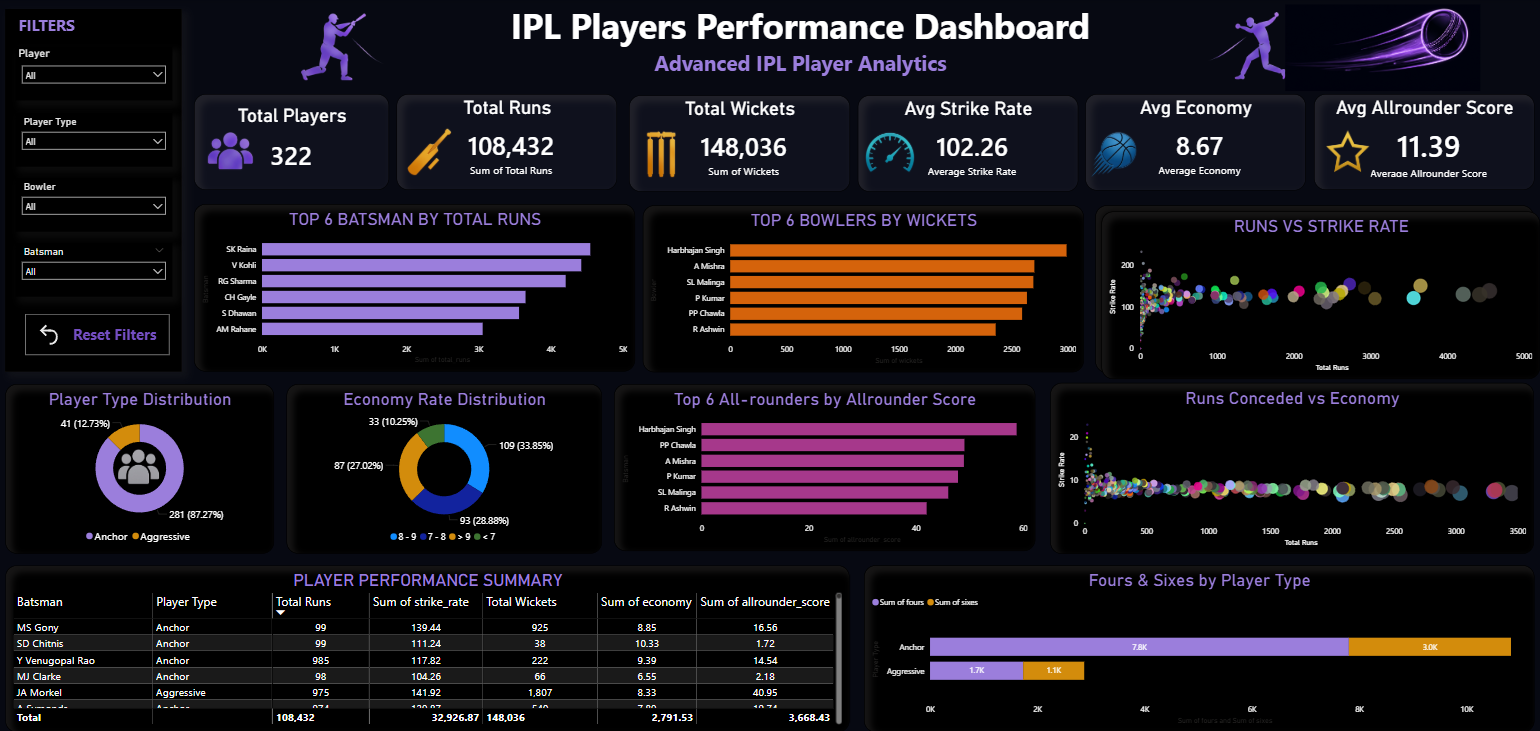

Layout of this report page (visuals, bound fields, positions):
{"tool":"powerbi","page":{"name":"Page 1","canvas":[2400,1150],"ordinal":0},"visuals":[{"type":"textbox","box":[308.3,0,1869.1,127.2],"z":0},{"type":"shape","box":[17.3,15.4,271.7,558.8],"z":1000},{"type":"barChart","title":"TOP 6 BATSMAN BY TOTAL RUNS","fields":{"Category":["final_allrounder_data.batsman"],"Y":["Sum(final_allrounder_data.total_runs)"]},"box":[308.3,316,680.2,258.2],"z":2000},{"type":"cardVisual","title":"Total Runs","fields":{"Data":["final_allrounder_data.Total Runs"]},"box":[621.4,146.1,340.1,148.3],"z":3000},{"type":"cardVisual","title":"Total Wickets","fields":{"Data":["final_allrounder_data.Total Wickets"]},"box":[978.2,148.5,340.6,148.5],"z":4000},{"type":"cardVisual","title":"Avg Strike Rate","fields":{"Data":["Avg(final_allrounder_data.strike_rate)"]},"box":[1330.6,148.6,340,148.6],"z":5000},{"type":"cardVisual","title":"Total Players","fields":{"Data":["CountNonNull(final_allrounder_data.batsman)"]},"box":[307.4,146.1,300.9,148.3],"z":6000},{"type":"image","box":[387.3,0,300.6,146.4],"z":7000},{"type":"image","box":[1788.2,0,300.6,146.4],"z":8000},{"type":"image","box":[1990.5,1.9,300.6,146.4],"z":9000},{"type":"image","box":[296.8,190.8,134.9,98.3],"z":10000},{"type":"image","box":[621.4,176.6,100.3,115.6],"z":11000},{"type":"image","box":[978.2,180.2,99,116.8],"z":12000},{"type":"image","box":[1330.6,182.4,99.1,117.1],"z":13000},{"type":"cardVisual","title":"Avg Economy","fields":{"Data":["Avg(final_allrounder_data.economy)"]},"box":[1681.8,146.3,340,148.6],"z":14000},{"type":"cardVisual","title":"Avg Allrounder Score","fields":{"Data":["Avg(final_allrounder_data.allrounder_score)"]},"box":[2034.2,146.1,340.1,148.3],"z":15000},{"type":"image","box":[1681,176.6,98.1,117.7],"z":16000},{"type":"image","box":[2036.3,176.6,98.1,117.7],"z":17000},{"type":"barChart","title":"TOP 6 BOWLERS BY WICKETS","fields":{"Category":["final_allrounder_data.bowler"],"Y":["Sum(final_allrounder_data.wickets)"]},"box":[1000.7,318.3,680.2,257.3],"z":18000},{"type":"scatterChart","title":"RUNS VS STRIKE RATE","fields":{"X":["Sum(final_allrounder_data.total_runs)"],"Y":["Sum(final_allrounder_data.strike_rate)"],"Series":["final_allrounder_data.batsman"],"Size":["Sum(final_allrounder_data.total_runs)"]},"box":[1697.6,317.9,676.4,258.2],"z":19000},{"type":"donutChart","title":"Player Type Distribution","fields":{"Category":["final_allrounder_data.player_type"],"Y":["CountNonNull(final_allrounder_data.batsman)"]},"box":[17.4,593,414.2,261.6],"z":20000},{"type":"donutChart","title":"Economy Rate Distribution","fields":{"Category":["final_allrounder_data.Economy Group"],"Y":["CountNonNull(final_allrounder_data.bowler)"]},"box":[451.3,593,486.2,261.6],"z":21000},{"type":"barChart","title":"Top 6 All-rounders by Allrounder Score","fields":{"Category":["final_allrounder_data.Batsman"],"Y":["Sum(final_allrounder_data.allrounder_score)"]},"box":[954.9,593,649.7,257.3],"z":22000},{"type":"scatterChart","title":"Runs Conceded vs Economy","fields":{"Y":["Sum(final_allrounder_data.economy)"],"Series":["final_allrounder_data.bowler"],"Size":["Sum(final_allrounder_data.wickets)"],"X":["Sum(final_allrounder_data.runs_conceded)"]},"box":[1628.6,590.8,745.6,263.8],"z":23000},{"type":"scatterChart","title":"RUNS VS STRIKE RATE","fields":{"X":["Sum(final_allrounder_data.total_runs)"],"Y":["Sum(final_allrounder_data.strike_rate)"],"Series":["final_allrounder_data.batsman"],"Size":["Sum(final_allrounder_data.total_runs)"]},"box":[1707.6,327.9,676.4,258.2],"z":24000},{"type":"barChart","title":"Fours & Sixes by Player Type","fields":{"Category":["final_allrounder_data.player_type"],"Y":["Sum(final_allrounder_data.fours)","Sum(final_allrounder_data.sixes)"]},"box":[1340.8,872.1,1033.4,257.3],"z":25000},{"type":"tableEx","title":"PLAYER PERFORMANCE SUMMARY","fields":{"Values":["final_allrounder_data.batsman","final_allrounder_data.player_type","final_allrounder_data.Total Runs","Sum(final_allrounder_data.strike_rate)","final_allrounder_data.Total Wickets","Sum(final_allrounder_data.economy)","Sum(final_allrounder_data.allrounder_score)"]},"box":[17.4,872.1,1301.6,257.3],"z":26000},{"type":"textbox","box":[32.7,19.6,298.7,54.5],"z":27000},{"type":"slicer","title":"Player","fields":{"Values":["final_allrounder_data.bowler"]},"box":[32.7,74.1,242,82.8],"z":28000},{"type":"slicer","fields":{"Values":["final_allrounder_data.player_type"]},"box":[32.7,174.4,242,82.8],"z":29000},{"type":"slicer","fields":{"Values":["final_allrounder_data.bowler"]},"box":[32.7,274.7,242,82.8],"z":30000},{"type":"slicer","fields":{"Values":["final_allrounder_data.batsman"]},"box":[32.7,375,242,82.8],"z":31000},{"type":"image","box":[181.1,693.7,88.6,67.4],"z":31001},{"type":"actionButton","box":[48,486.2,222.4,63.2],"z":31002}]}

Visuals, with their boxes in screenshot pixels (x1, y1, x2, y2), scaled from the page's 2400x1150 canvas onto the 1540x731 screenshot:
textbox: x1=198 y1=0 x2=1397 y2=81
shape: x1=11 y1=10 x2=185 y2=365
"TOP 6 BATSMAN BY TOTAL RUNS" barChart: x1=198 y1=201 x2=634 y2=365
"Total Runs" cardVisual: x1=399 y1=93 x2=617 y2=187
"Total Wickets" cardVisual: x1=628 y1=94 x2=846 y2=189
"Avg Strike Rate" cardVisual: x1=854 y1=94 x2=1072 y2=189
"Total Players" cardVisual: x1=197 y1=93 x2=390 y2=187
image: x1=249 y1=0 x2=441 y2=93
image: x1=1147 y1=0 x2=1340 y2=93
image: x1=1277 y1=1 x2=1470 y2=94
image: x1=190 y1=121 x2=277 y2=184
image: x1=399 y1=112 x2=463 y2=186
image: x1=628 y1=115 x2=691 y2=189
image: x1=854 y1=116 x2=917 y2=190
"Avg Economy" cardVisual: x1=1079 y1=93 x2=1297 y2=187
"Avg Allrounder Score" cardVisual: x1=1305 y1=93 x2=1524 y2=187
image: x1=1079 y1=112 x2=1142 y2=187
image: x1=1307 y1=112 x2=1370 y2=187
"TOP 6 BOWLERS BY WICKETS" barChart: x1=642 y1=202 x2=1079 y2=366
"RUNS VS STRIKE RATE" scatterChart: x1=1089 y1=202 x2=1523 y2=366
"Player Type Distribution" donutChart: x1=11 y1=377 x2=277 y2=543
"Economy Rate Distribution" donutChart: x1=290 y1=377 x2=602 y2=543
"Top 6 All-rounders by Allrounder Score" barChart: x1=613 y1=377 x2=1030 y2=540
"Runs Conceded vs Economy" scatterChart: x1=1045 y1=376 x2=1523 y2=543
"RUNS VS STRIKE RATE" scatterChart: x1=1096 y1=208 x2=1530 y2=373
"Fours & Sixes by Player Type" barChart: x1=860 y1=554 x2=1523 y2=718
"PLAYER PERFORMANCE SUMMARY" tableEx: x1=11 y1=554 x2=846 y2=718
textbox: x1=21 y1=12 x2=213 y2=47
"Player" slicer: x1=21 y1=47 x2=176 y2=100
slicer - final_allrounder_data.player_type: x1=21 y1=111 x2=176 y2=163
slicer - final_allrounder_data.bowler: x1=21 y1=175 x2=176 y2=227
slicer - final_allrounder_data.batsman: x1=21 y1=238 x2=176 y2=291
image: x1=116 y1=441 x2=173 y2=484
actionButton: x1=31 y1=309 x2=174 y2=349
